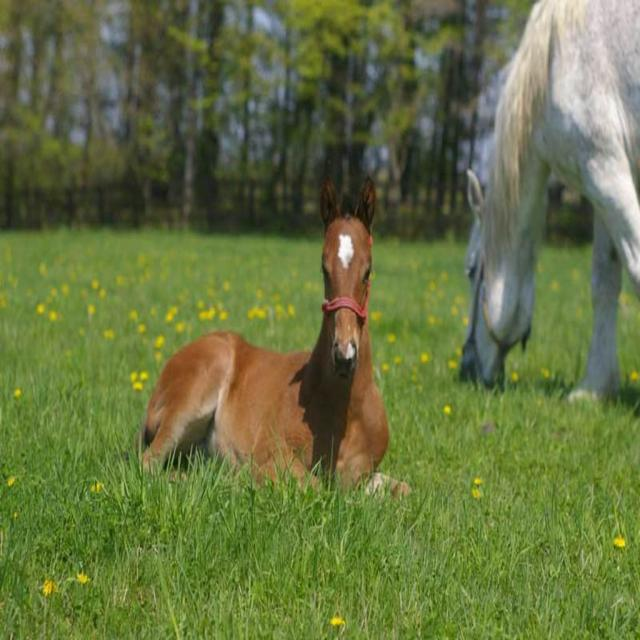Horse: (149, 172, 395, 508), (459, 0, 639, 417)
